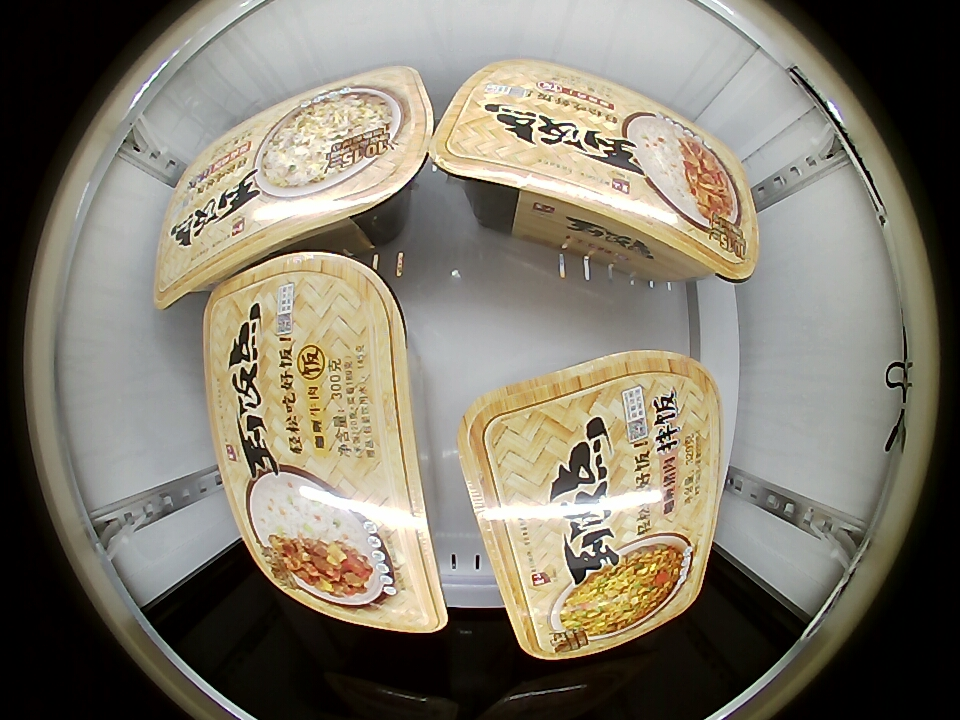daofandian1: (152, 68, 434, 300)
daofandian2: (202, 250, 447, 643)
daofandian3: (463, 350, 725, 658)
daofandian4: (431, 61, 758, 277)
